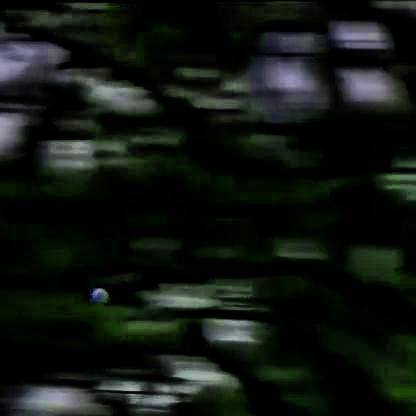golfball: (88, 285, 110, 303)
